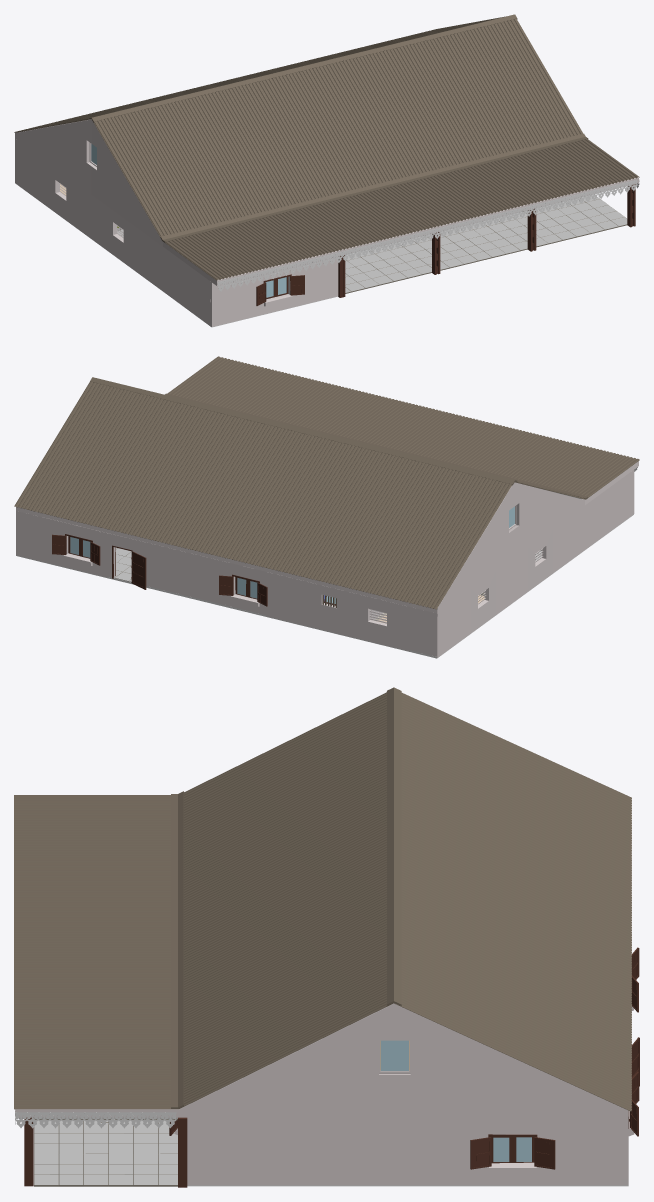
The model's file is maison_base.fbx.
The picture shows the model from 3 angles, top to bottom: view 1: azimuth 30°, elevation 25°; view 2: azimuth 150°, elevation 25°; view 3: azimuth 270°, elevation 25°; orthographic projection. The views are drawn at different scales.
Parts seen in each view (by area): view 1: Plane.090, Plane.089, sol_veranda, mur4.018, bordure, Plane.092, mur4.007, Plane.093, Plane.091, mur4.005, mur4.012, mur4.016 (+6 smaller); view 2: Plane.091, Plane.089, mur4.018, mur4.007, mur.013, Plane.093, mur.016, mur.014, mur4.020, mur.015, mur.019, mur.011 (+13 smaller); view 3: Plane.091, Plane.090, Plane.089, mur4.019, mur.004, sol_veranda, mur.007, mur.009, Plane.093, Plane.092, mur.008, bordure.001 (+3 smaller).
Boxes of the visible parts, <box> form: Plane.090: <box>94,18,582,237</box>; Plane.089: <box>165,139,639,280</box>; sol_veranda: <box>345,194,627,293</box>; mur4.018: <box>16,119,220,285</box>; bordure: <box>217,180,637,291</box>; Plane.092: <box>160,133,588,242</box>; mur4.007: <box>151,238,210,325</box>; Plane.093: <box>89,14,517,122</box>; Plane.091: <box>14,16,504,132</box>; mur4.005: <box>210,277,258,326</box>; mur4.012: <box>73,181,105,248</box>; mur4.016: <box>16,140,48,206</box>; Plane.091: <box>14,381,512,609</box>; Plane.089: <box>167,356,639,498</box>; mur4.018: <box>438,461,638,612</box>; mur4.007: <box>573,471,632,557</box>; mur.013: <box>168,548,225,605</box>; Plane.093: <box>90,377,517,485</box>; mur.016: <box>352,593,398,648</box>; mur.014: <box>266,572,312,627</box>; mur4.020: <box>16,507,438,613</box>; mur.015: <box>398,604,439,657</box>; mur.019: <box>311,583,351,636</box>; mur.011: <box>16,511,58,565</box>; Plane.091: <box>394,693,631,1111</box>; Plane.090: <box>184,692,386,1106</box>; Plane.089: <box>14,795,170,1109</box>; mur4.019: <box>15,1003,624,1118</box>; mur.004: <box>187,1117,398,1185</box>; sol_veranda: <box>34,1119,177,1186</box>; mur.007: <box>398,1117,476,1185</box>; mur.009: <box>550,1117,623,1185</box>; Plane.093: <box>386,687,401,1006</box>; Plane.092: <box>171,791,184,1109</box>; mur.008: <box>475,1117,550,1185</box>; bordure.001: <box>15,1112,176,1128</box>.
Size of the model in its own units: 8053 by 2199 by 6707.
